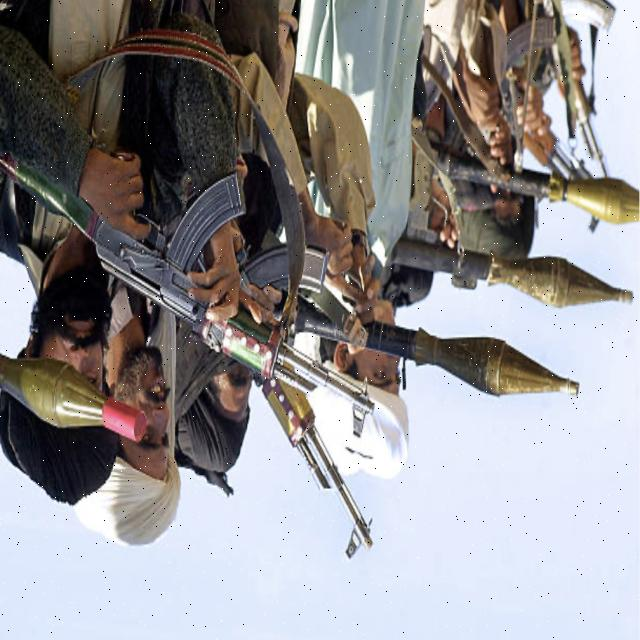bazooka: (295, 302, 585, 409), (390, 231, 638, 317), (439, 145, 640, 238), (2, 355, 153, 453)
